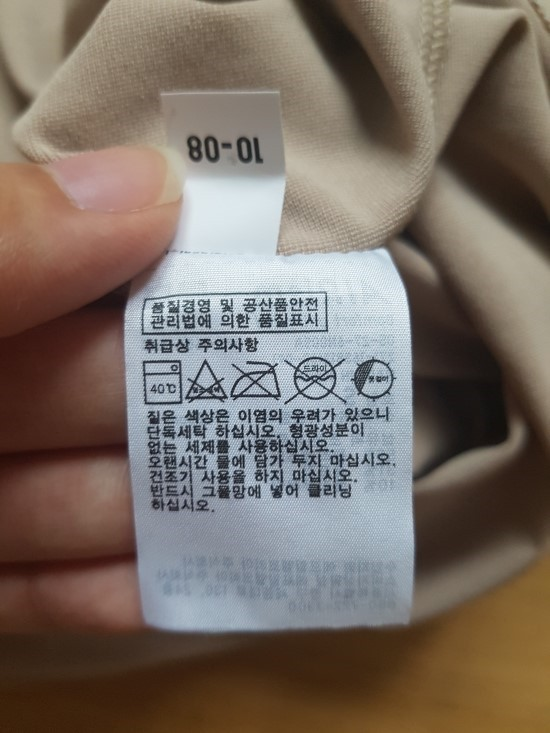KR_hang_dry_in_shade: (349, 354, 399, 405)
KR_no_chlorine_bleach: (183, 358, 228, 403)
KR_no_dry_clean: (287, 352, 344, 403)
KR_no_iron: (230, 354, 283, 403)
KR_wash_40: (139, 355, 185, 408)
